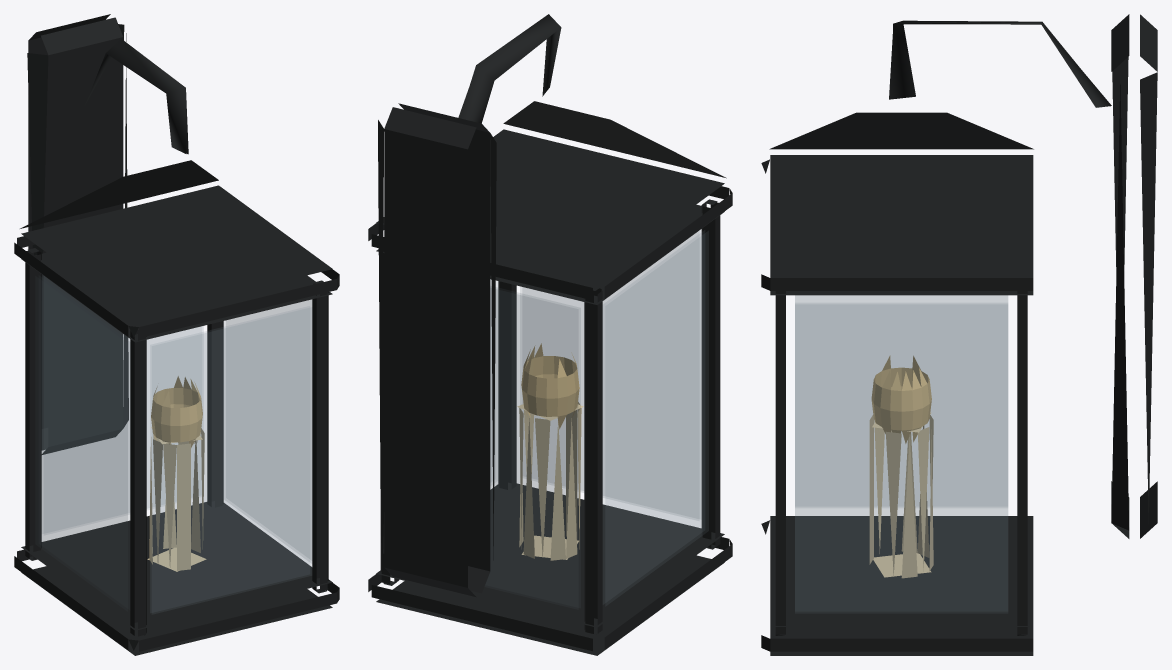
The model's file is CourtyardWallLantern.glb.
3 views of the same model, side by side, from view 1: azimuth 30°, elevation 25°; view 2: azimuth 150°, elevation 25°; view 3: azimuth 270°, elevation 25° (orthographic). The views are drawn at different scales.
Parts seen in each view (by area): view 1: GlassPane, LanternRim.001, LanternBackplate, LanternRim, GlassPane.002, GlassPane.001, GlassPane.003, CandleSleeve, LanternCorner, LanternCorner.002, LanternCorner.001, LanternHood (+3 smaller); view 2: LanternBackplate, GlassPane.002, GlassPane, LanternRim.001, GlassPane.001, LanternRim, CandleSleeve, LanternCorner, LanternCorner.001, LanternHood, LanternCorner.002, LanternScrollArm (+2 smaller); view 3: GlassPane.003, GlassPane.002, LanternRim.001, LanternRim, LanternBackplate, CandleSleeve, LanternHood, LanternCorner.002, LanternCorner.003, WarmBulb, LanternScrollArm.
Boxes of the visible parts, bbox=[...] form: GlassPane: bbox=[150, 306, 311, 613]; LanternRim.001: bbox=[14, 185, 339, 342]; LanternBackplate: bbox=[27, 14, 128, 454]; LanternRim: bbox=[14, 501, 339, 655]; GlassPane.002: bbox=[36, 276, 129, 610]; GlassPane.001: bbox=[42, 275, 203, 533]; GlassPane.003: bbox=[223, 300, 311, 560]; CandleSleeve: bbox=[147, 427, 206, 571]; LanternCorner: bbox=[130, 325, 146, 637]; LanternCorner.002: bbox=[312, 280, 328, 593]; LanternCorner.001: bbox=[25, 248, 41, 560]; LanternHood: bbox=[20, 160, 218, 228]; LanternBackplate: bbox=[378, 103, 496, 597]; GlassPane.002: bbox=[603, 231, 708, 604]; GlassPane: bbox=[520, 230, 700, 518]; LanternRim.001: bbox=[368, 129, 732, 304]; GlassPane.001: bbox=[485, 288, 580, 608]; LanternRim: bbox=[368, 482, 732, 655]; CandleSleeve: bbox=[517, 401, 583, 560]; LanternCorner: bbox=[701, 199, 720, 549]; LanternCorner.001: bbox=[584, 285, 602, 635]; LanternHood: bbox=[503, 101, 726, 178]; LanternCorner.002: bbox=[498, 281, 516, 489]; LanternScrollArm: bbox=[458, 14, 561, 123]; GlassPane.003: bbox=[795, 303, 1007, 612]; GlassPane.002: bbox=[795, 295, 1007, 506]; LanternRim.001: bbox=[761, 155, 1033, 295]; LanternRim: bbox=[761, 516, 1033, 655]; LanternBackplate: bbox=[1111, 14, 1157, 538]; CandleSleeve: bbox=[869, 412, 933, 578]; LanternHood: bbox=[769, 112, 1033, 149]; LanternCorner.002: bbox=[775, 277, 785, 635]; LanternCorner.003: bbox=[1017, 277, 1027, 635]; WarmBulb: bbox=[871, 355, 931, 443]; LanternScrollArm: bbox=[889, 20, 1111, 107].
Size of the model in its own units: 0.79 by 1.81 by 1.12.
